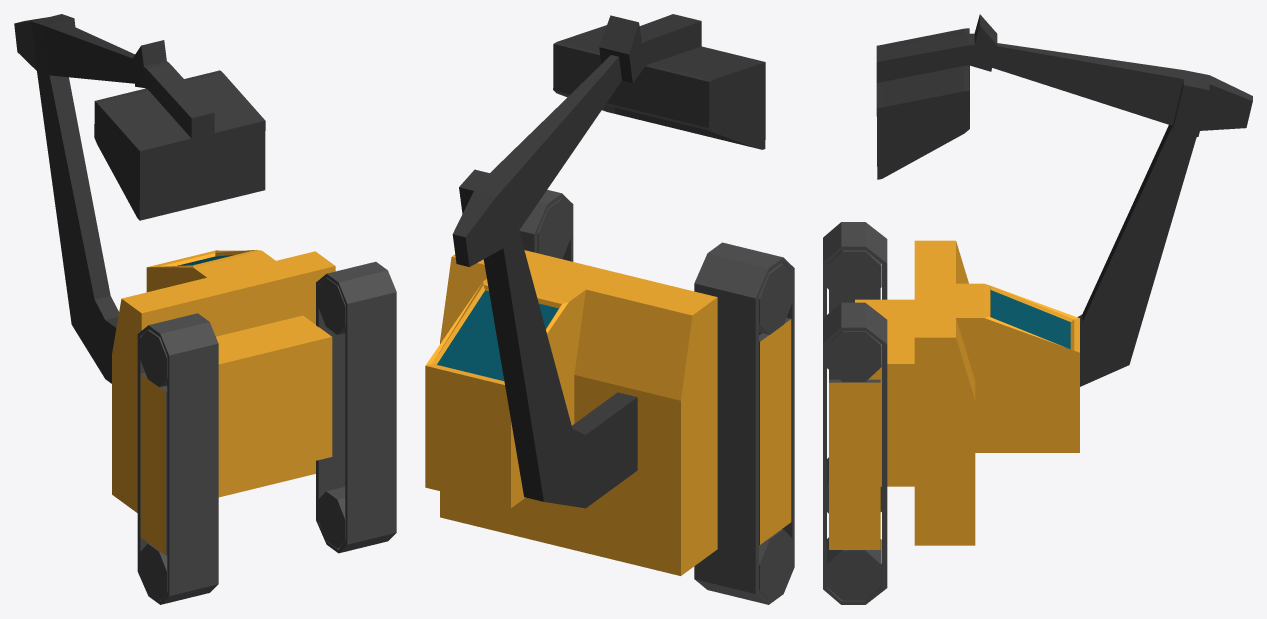
File: construction-backhoe.obj
3 renders of one model, left to right at view 1: azimuth 30°, elevation 25°; view 2: azimuth 150°, elevation 25°; view 3: azimuth 270°, elevation 25°, orthographic. The views are drawn at different scales.
Parts seen in each view (by area): view 1: construction-backhoe_Cube.104; view 2: construction-backhoe_Cube.104; view 3: construction-backhoe_Cube.104.
Boxes of the visible parts, <box> form: construction-backhoe_Cube.104: <box>14,14,396,604</box>; construction-backhoe_Cube.104: <box>425,14,794,604</box>; construction-backhoe_Cube.104: <box>823,14,1252,604</box>.
Bounding box in the file's own units: 1.71 × 3.52 × 2.69.
